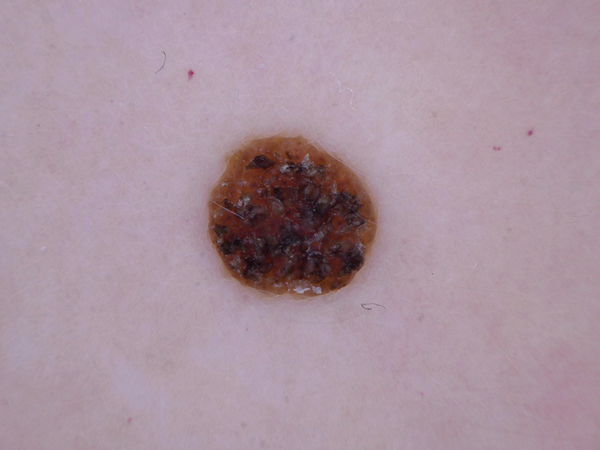Detected Lesion: (206, 127, 381, 305)
